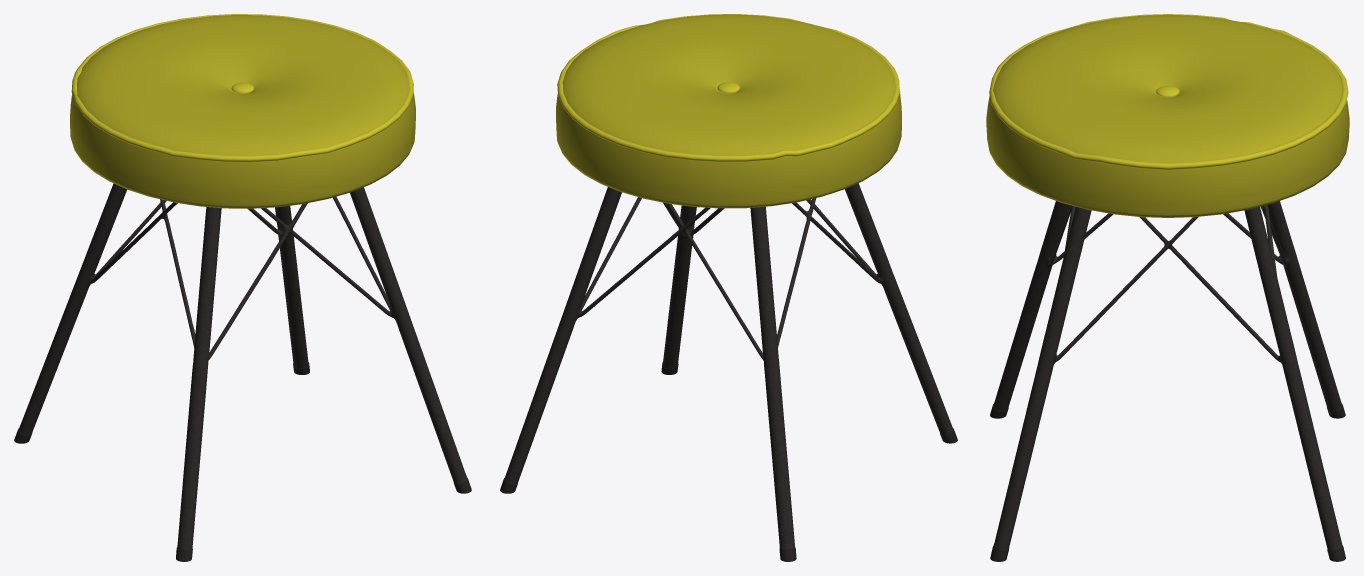
The model's file is stool_B075ZCLPHP.glb.
3 views of the same model, side by side, from view 1: azimuth 30°, elevation 25°; view 2: azimuth 150°, elevation 25°; view 3: azimuth 270°, elevation 25° (orthographic). The views are drawn at different scales.
Visible parts, largest first — view 1: RootNode; view 2: RootNode; view 3: RootNode.
Part boxes in pixels (x1,y1,x2,y2): RootNode: [14, 14, 471, 561]; RootNode: [500, 14, 957, 561]; RootNode: [986, 14, 1349, 561].
Bounding box in the file's own units: 0.4091 × 0.5076 × 0.4091.
Materials: 1 (1 with a texture image).
